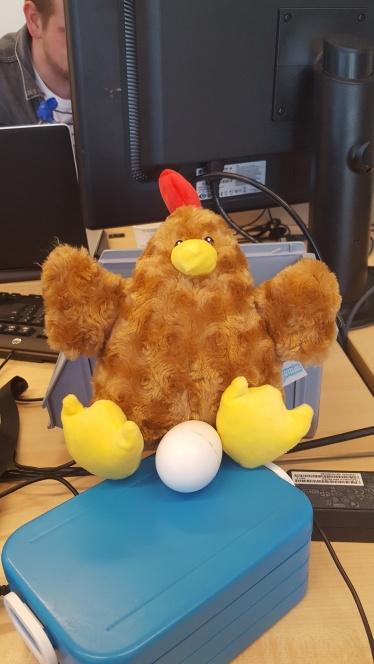chicken_front: (37, 162, 341, 479)
egg: (154, 418, 223, 492)
